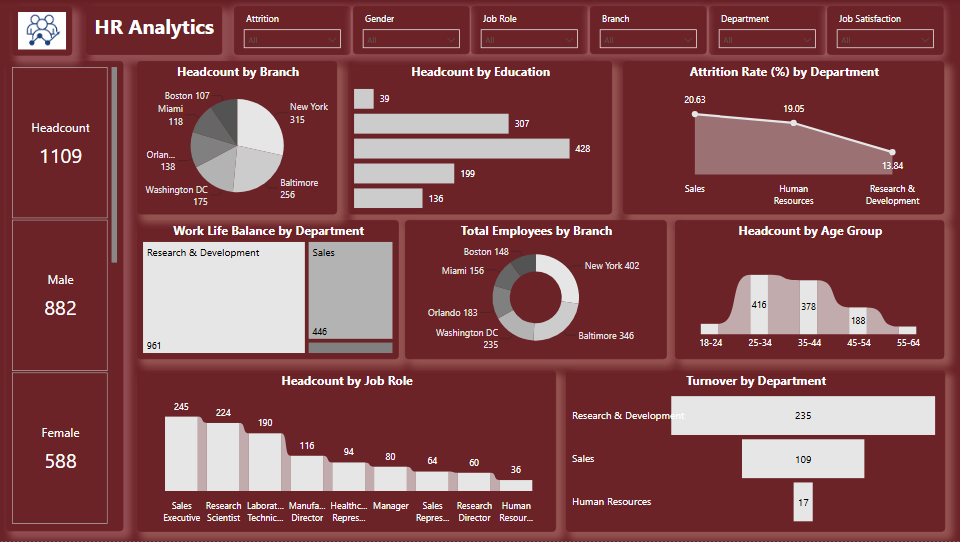

The dashboard page shown, as its layout file describes it:
{"tool":"powerbi","page":{"name":"Page 1","canvas":[1280,720],"ordinal":0},"visuals":[{"type":"textbox","box":[116.4,9,180.9,65.4],"z":0},{"type":"slicer","fields":{"Values":["HR_Analytics_Data.Attrition"]},"box":[314.3,9,154.9,65.4],"z":1000},{"type":"slicer","fields":{"Values":["HR_Analytics_Data.JobRole"]},"box":[629.2,9,154.9,64.5],"z":2000},{"type":"slicer","fields":{"Values":["HR_Analytics_Data.Department"]},"box":[944.5,9,154.9,65.4],"z":3000},{"type":"slicer","fields":{"Values":["HR_Analytics_Data.JobSatisfaction"]},"box":[1102.1,9,154.9,65.4],"z":4000},{"type":"slicer","fields":{"Values":["Employee_data.Branch"]},"box":[786.8,9,154.9,64.5],"z":5000},{"type":"cardVisual","fields":{"Data":["HR_Analytics_Data.Headcount","HR_Analytics_Data.Male","HR_Analytics_Data.Female","HR_Analytics_Data.Total Employees","HR_Analytics_Data.Turnover","HR_Analytics_Data.Turnover %","Due_for_promotion&retrenchment.Due Promotion %"]},"box":[11,82,156,625],"z":6000},{"type":"columnChart","title":"Headcount by Job Role","fields":{"Category":["HR_Analytics_Data.JobRole"],"Y":["HR_Analytics_Data.Headcount"]},"box":[184.9,492.6,556.6,214.8],"z":7000},{"type":"barChart","title":"Headcount by Education","fields":{"Y":["HR_Analytics_Data.Headcount"],"Category":["HR_Analytics_Data.Education"]},"box":[464.6,81.9,350.7,203.8],"z":8000},{"type":"image","box":[18,9,79.9,65.9],"z":9000},{"type":"areaChart","title":"Attrition Rate (%) by Department","fields":{"Category":["HR_Analytics_Data.Department"],"Y":["HR_Analytics_Data.Attrition Rate (%)"]},"box":[831.4,81.9,426.7,203.8],"z":10000},{"type":"funnel","fields":{"Y":["HR_Analytics_Data.Turnover"],"Category":["HR_Analytics_Data.Department"]},"box":[754.4,492.6,503.6,214.8],"z":11000},{"type":"slicer","fields":{"Values":["HR_Analytics_Data.Gender"]},"box":[471.6,9,154.9,64.5],"z":12000},{"type":"treemap","title":"Work Life Balance by Department","fields":{"Group":["HR_Analytics_Data.Department"],"Values":["CountNonNull(HR_Analytics_Data.WorkLifeBalance)"]},"box":[184.9,293.8,347.7,184.9],"z":13000},{"type":"donutChart","title":"Total Employees by Branch","fields":{"Y":["HR_Analytics_Data.Total Employees"],"Category":["Employee_data.Branch"]},"box":[540.6,293.8,347.7,184.9],"z":14000},{"type":"ribbonChart","title":"Headcount by Age Group","fields":{"Category":["HR_Analytics_Data.Age Group"],"Y":["HR_Analytics_Data.Headcount"]},"box":[900.3,293.8,357.7,184.9],"z":15000},{"type":"pieChart","title":"Headcount by Branch","fields":{"Y":["HR_Analytics_Data.Headcount"],"Category":["Employee_data.Branch"]},"box":[184.7,81.8,266.5,203.9],"z":16000}]}

Visuals, with their boxes in screenshot pixels (x1, y1, x2, y2), scaled from the page's 1280x720 canvas onto the 960x542 screenshot:
textbox: bbox(87, 7, 223, 56)
slicer - HR_Analytics_Data.Attrition: bbox(236, 7, 352, 56)
slicer - HR_Analytics_Data.JobRole: bbox(472, 7, 588, 55)
slicer - HR_Analytics_Data.Department: bbox(708, 7, 825, 56)
slicer - HR_Analytics_Data.JobSatisfaction: bbox(827, 7, 943, 56)
slicer - Employee_data.Branch: bbox(590, 7, 706, 55)
cardVisual - HR_Analytics_Data.Headcount x HR_Analytics_Data.Male: bbox(8, 62, 125, 532)
"Headcount by Job Role" columnChart: bbox(139, 371, 556, 533)
"Headcount by Education" barChart: bbox(348, 62, 611, 215)
image: bbox(14, 7, 73, 56)
"Attrition Rate (%) by Department" areaChart: bbox(624, 62, 944, 215)
funnel - HR_Analytics_Data.Turnover x HR_Analytics_Data.Department: bbox(566, 371, 944, 533)
slicer - HR_Analytics_Data.Gender: bbox(354, 7, 470, 55)
"Work Life Balance by Department" treemap: bbox(139, 221, 399, 360)
"Total Employees by Branch" donutChart: bbox(405, 221, 666, 360)
"Headcount by Age Group" ribbonChart: bbox(675, 221, 944, 360)
"Headcount by Branch" pieChart: bbox(139, 62, 338, 215)
